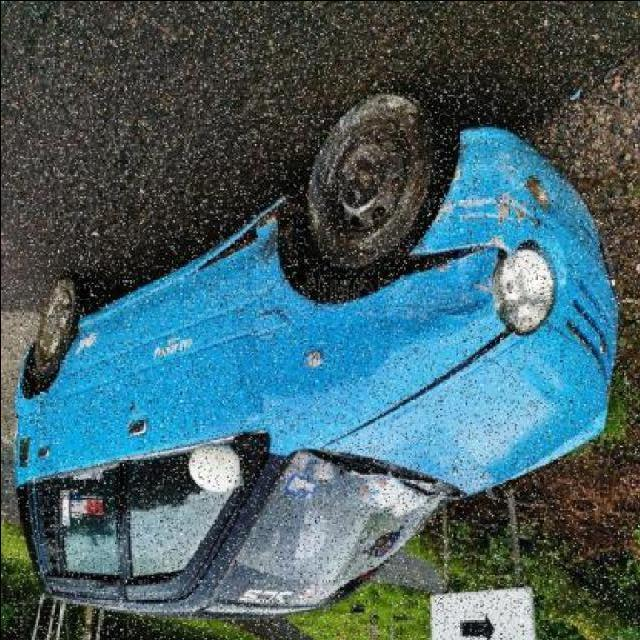fender-dent: (257, 206, 497, 380)
front-bumper-dent: (434, 128, 638, 291)
